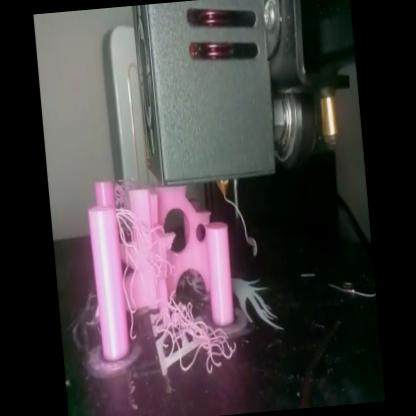fail: (114, 201, 180, 341), (162, 287, 234, 381)
